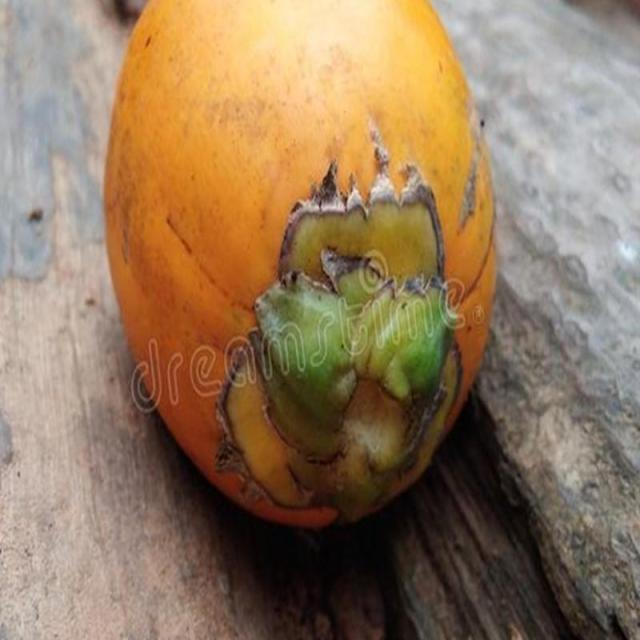good: (102, 0, 500, 539)
